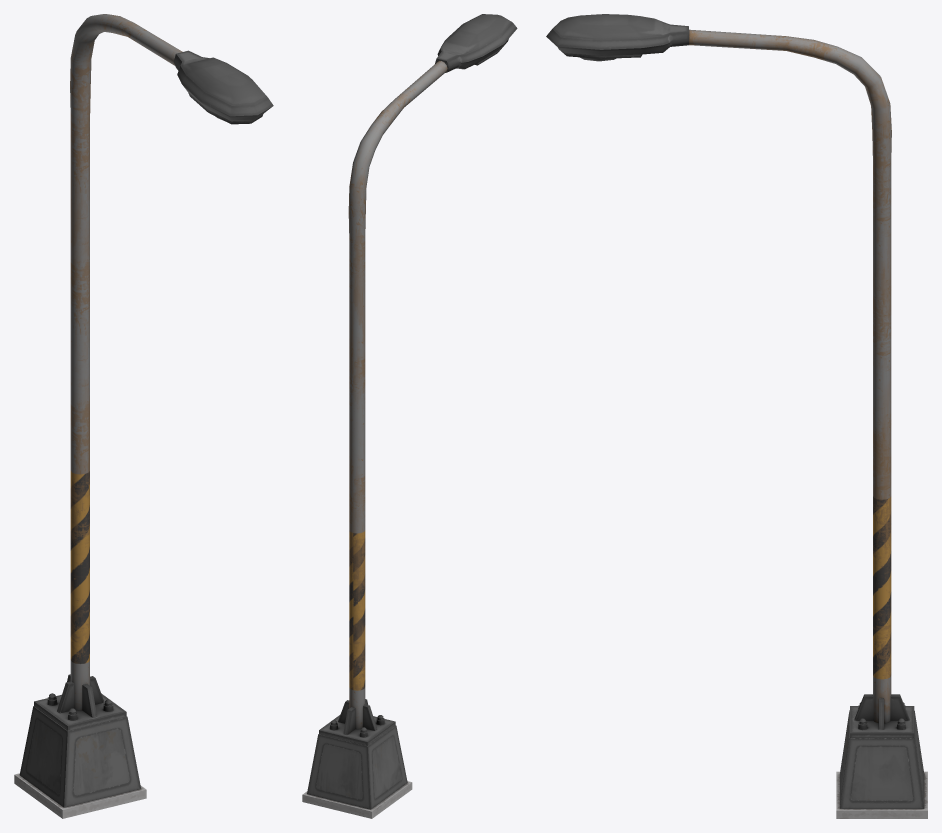
File: Street_Light.fbx
3 renders of one model, left to right at view 1: azimuth 30°, elevation 25°; view 2: azimuth 150°, elevation 25°; view 3: azimuth 270°, elevation 25°, orthographic. The views are drawn at different scales.
Parts seen in each view (by area): view 1: Street_Light; view 2: Street_Light; view 3: Street_Light.
Part boxes in pixels (box(x1,y1,x2,y2)): Street_Light: box(14, 14, 273, 818); Street_Light: box(302, 14, 517, 818); Street_Light: box(546, 14, 927, 818).
Size of the model in its own units: 64.84 by 608 by 270.
